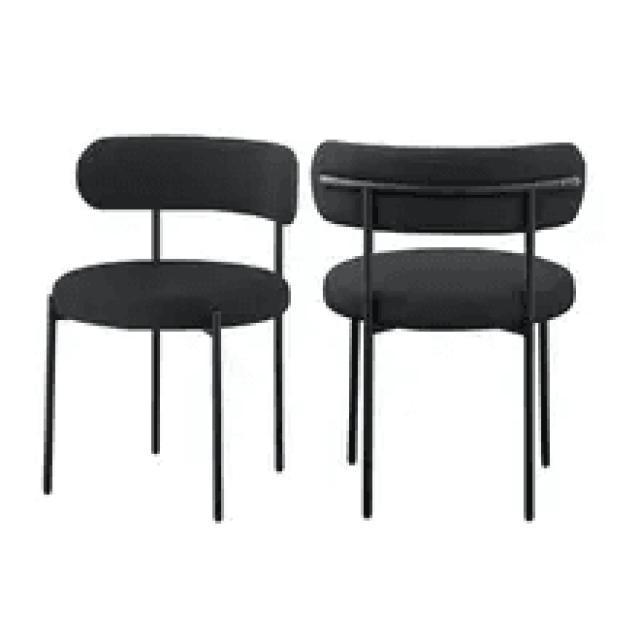chair: (310, 135, 590, 524), (37, 130, 305, 524), (314, 136, 588, 330), (56, 133, 296, 331)
